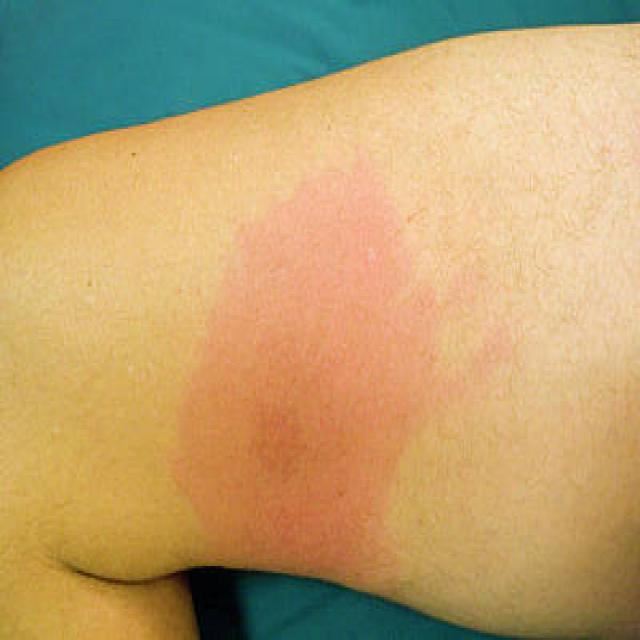Erythema migrans: (198, 146, 453, 534)
